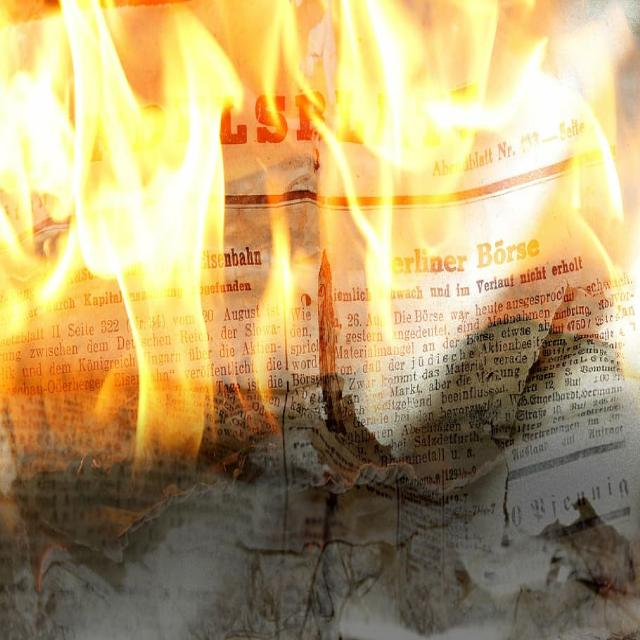fire: (0, 0, 640, 460)
